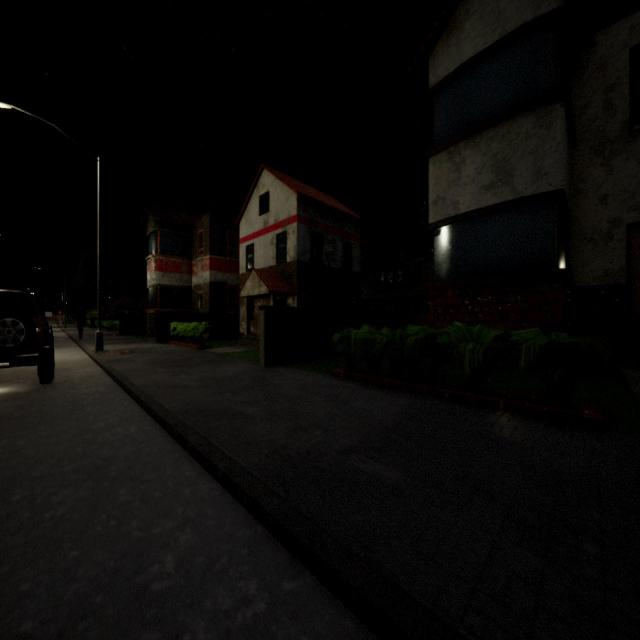Pedestrian: (75, 307, 85, 339)
Vehicle: (0, 289, 54, 383)
traffic_light: (59, 311, 61, 316)
